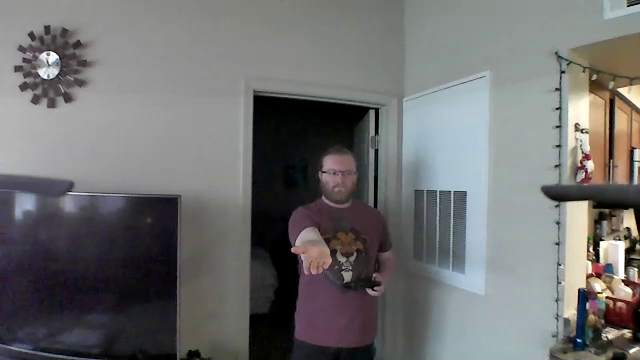land: (289, 241, 335, 278)
